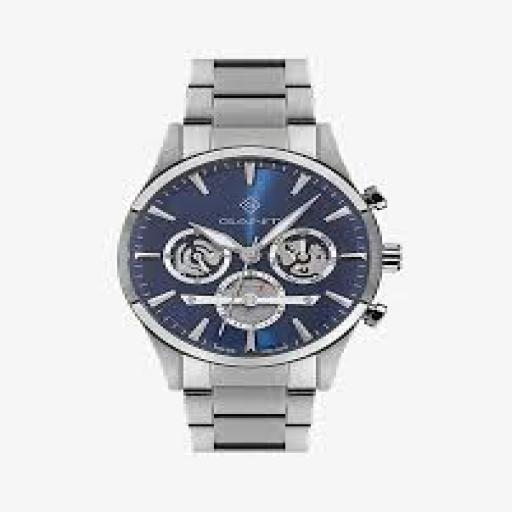KolSaati: (81, 42, 436, 476)
